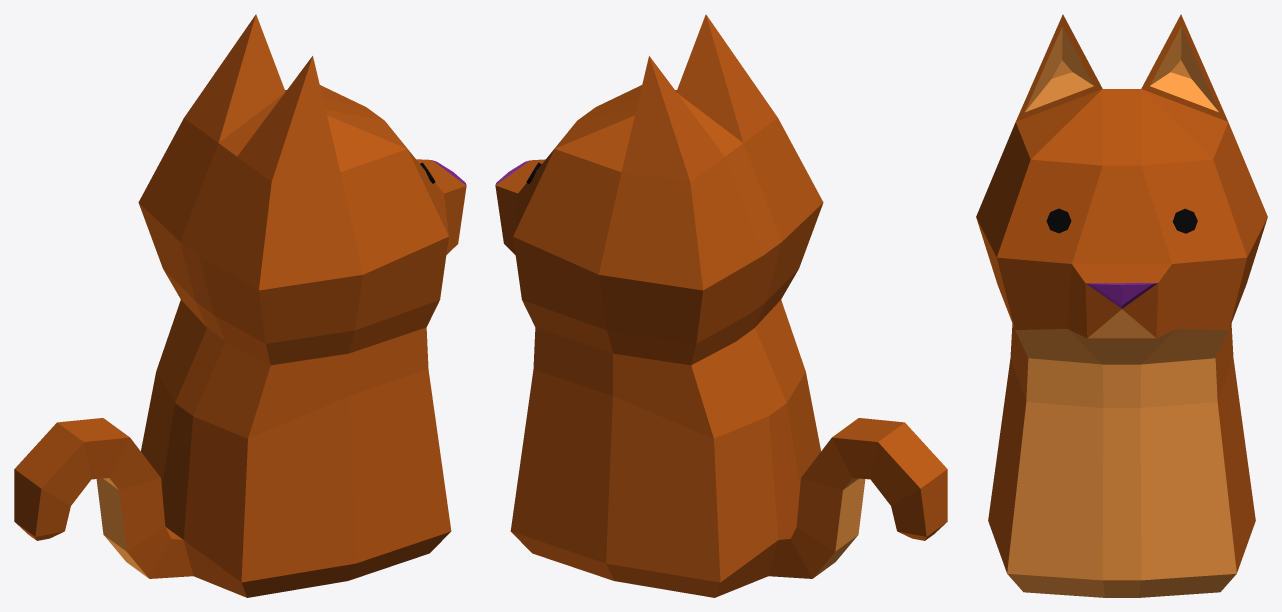
Rendered from Kitten_01.obj.
The picture shows the model from 3 angles, left to right: view 1: azimuth 30°, elevation 25°; view 2: azimuth 150°, elevation 25°; view 3: azimuth 270°, elevation 25°; orthographic projection. The views are drawn at different scales.
Visible parts, largest first — view 1: Kitten_Cube.030; view 2: Kitten_Cube.030; view 3: Kitten_Cube.030.
Part boxes in pixels (<box>): Kitten_Cube.030: <box>14,14,466,597</box>; Kitten_Cube.030: <box>495,14,947,597</box>; Kitten_Cube.030: <box>976,14,1267,597</box>.
Size of the model in its own units: 8.72 by 9.88 by 4.95.
